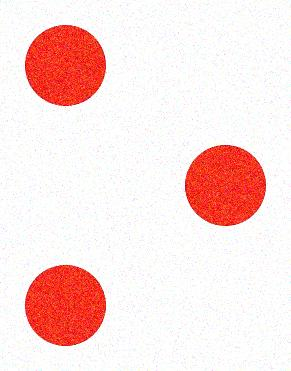O: (20, 18, 270, 352)
